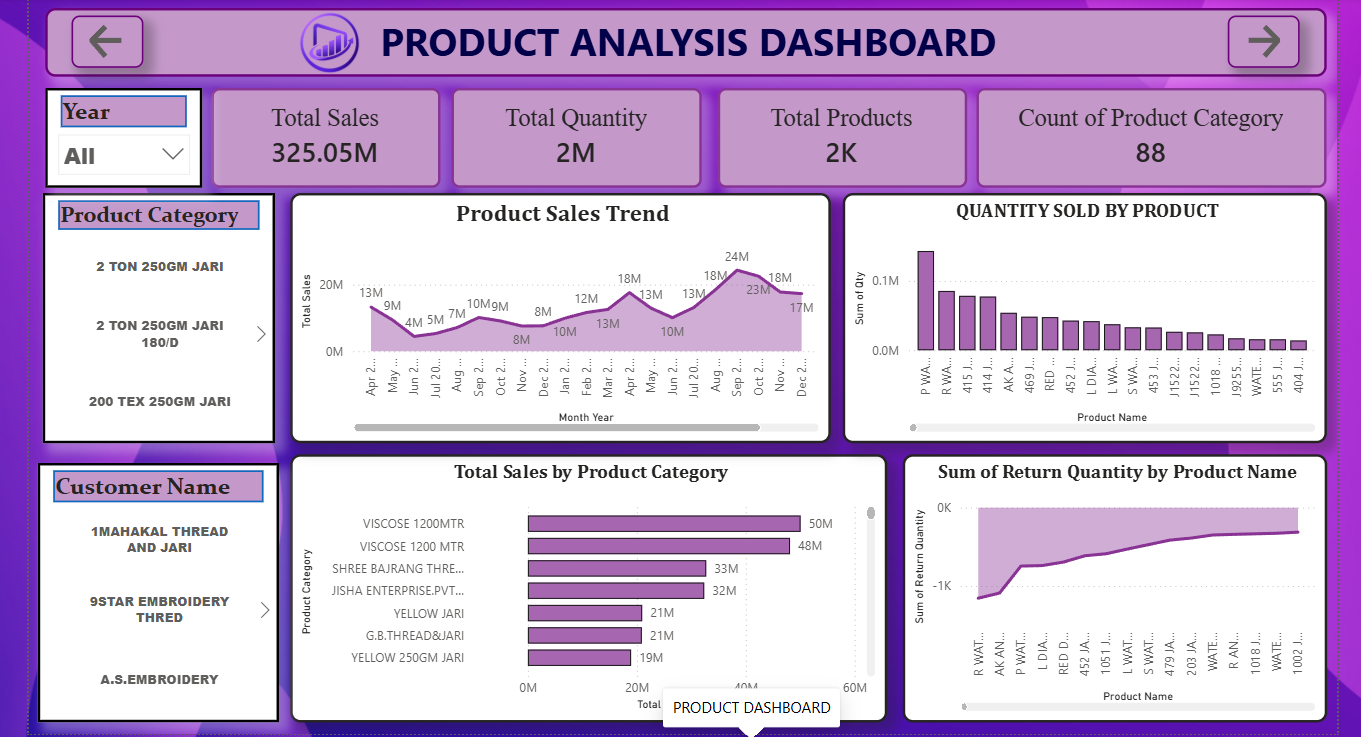

The page's visual inventory and layout, read from the dashboard file:
{"tool":"powerbi","page":{"name":"PRODUCT DASHBOARD","canvas":[1280,720],"ordinal":3},"visuals":[{"type":"textbox","title":"PRODUCT ANALYSIS DASHBOARD","box":[16.2,10,1253.8,67.5],"z":1000},{"type":"cardVisual","title":"TOTAL SALES","fields":{"Data":["Cleaned_File.Total Sales"]},"box":[178.8,87.5,223.8,97.5],"z":3500},{"type":"cardVisual","title":"TOTAL PRODUCT","fields":{"Data":["Cleaned_File.Total Products"]},"box":[673.8,87.5,243.8,97.5],"z":4000},{"type":"cardVisual","title":"TOTAL CATEGORIES","fields":{"Data":["Count(Cleaned_File.Product Category)"]},"box":[927.5,87.5,342.5,97.5],"z":6000},{"type":"cardVisual","title":"TOTAL QUANTIY","fields":{"Data":["Cleaned_File.Total Quantity"]},"box":[413.8,87.5,245,97.5],"z":8000},{"type":"barChart","fields":{"Category":["Cleaned_File.Product Category"],"Y":["Cleaned_File.Total Sales"]},"box":[255,446.2,583.8,262.5],"z":10000},{"type":"lineChart","title":"Product Sales Trend","fields":{"Category":["DateTable.Month Year"],"Y":["Cleaned_File.Total Sales"]},"box":[255,191.2,528.8,245],"z":11000},{"type":"columnChart","title":"QUANTITY SOLD BY PRODUCT","fields":{"Category":["Cleaned_File.Product Name"],"Y":["Sum(Cleaned_File.Qty)"]},"box":[796.2,191.2,473.8,245],"z":12000},{"type":"areaChart","title":"Sum of Return Quantity by Product Name","fields":{"Category":["Cleaned_File.Product Name"],"Y":["Sum(Cleaned_File.Return Quantity)"]},"box":[855,446.2,415,262.5],"z":13000},{"type":"slicer","fields":{"Values":["Cleaned_File.Customer Name"]},"box":[8.8,455,236.2,253.8],"z":14000},{"type":"slicer","fields":{"Values":["Cleaned_File.Product Category"]},"box":[13.8,191.2,227.5,245],"z":15000},{"type":"slicer","fields":{"Values":["DateTable.Year"]},"box":[16.2,87.5,153.8,97.5],"z":16000},{"type":"actionButton","box":[41.2,17.5,70,51.2],"z":16001},{"type":"actionButton","box":[1172.5,17.5,70,51],"z":16002},{"type":"image","box":[255,1.2,77.5,86.2],"z":16003}]}

Visuals, with their boxes in screenshot pixels (x1, y1, x2, y2):
"PRODUCT ANALYSIS DASHBOARD" textbox: detection(48, 10, 1314, 78)
"TOTAL SALES" cardVisual: detection(212, 88, 438, 187)
"TOTAL PRODUCT" cardVisual: detection(712, 88, 958, 187)
"TOTAL CATEGORIES" cardVisual: detection(968, 88, 1314, 187)
"TOTAL QUANTIY" cardVisual: detection(450, 88, 697, 187)
barChart - Cleaned_File.Product Category x Cleaned_File.Total Sales: detection(289, 451, 879, 716)
"Product Sales Trend" lineChart: detection(289, 193, 823, 440)
"QUANTITY SOLD BY PRODUCT" columnChart: detection(836, 193, 1314, 440)
"Sum of Return Quantity by Product Name" areaChart: detection(895, 451, 1314, 716)
slicer - Cleaned_File.Customer Name: detection(41, 459, 279, 716)
slicer - Cleaned_File.Product Category: detection(46, 193, 276, 440)
slicer - DateTable.Year: detection(48, 88, 204, 187)
actionButton: detection(74, 18, 144, 69)
actionButton: detection(1216, 18, 1287, 69)
image: detection(289, 1, 368, 88)
